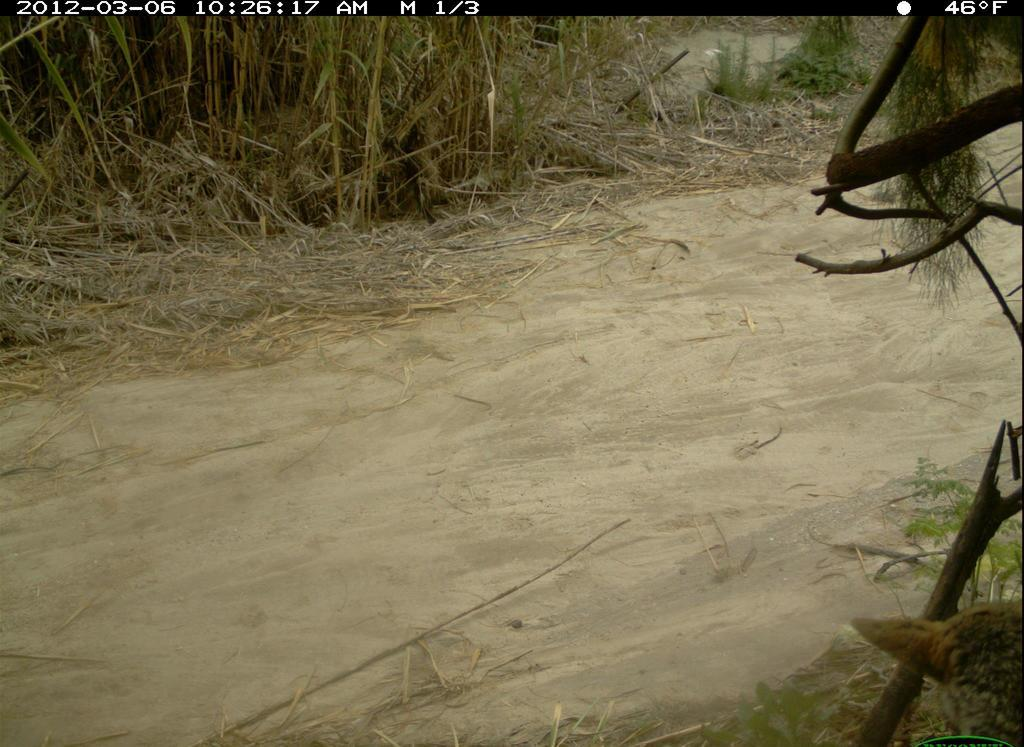coyote: (841, 580, 1013, 739)
